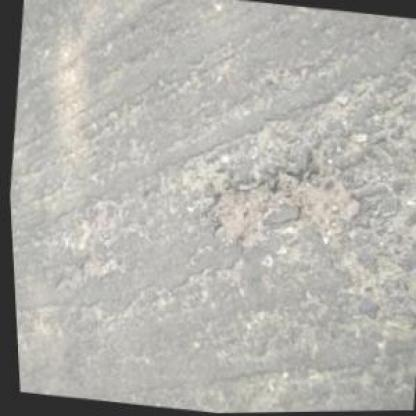pothole: (202, 144, 364, 258)
